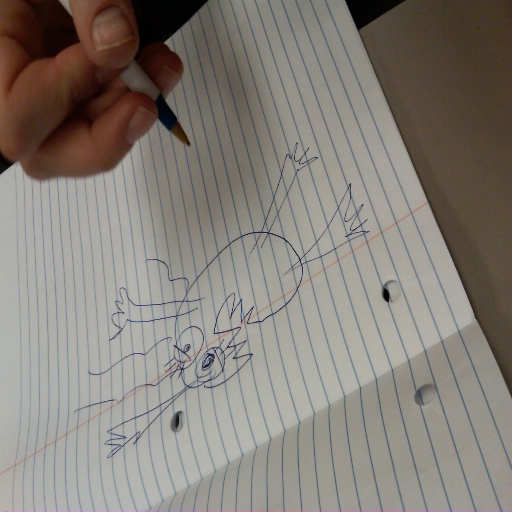hand: (1, 2, 199, 188)
